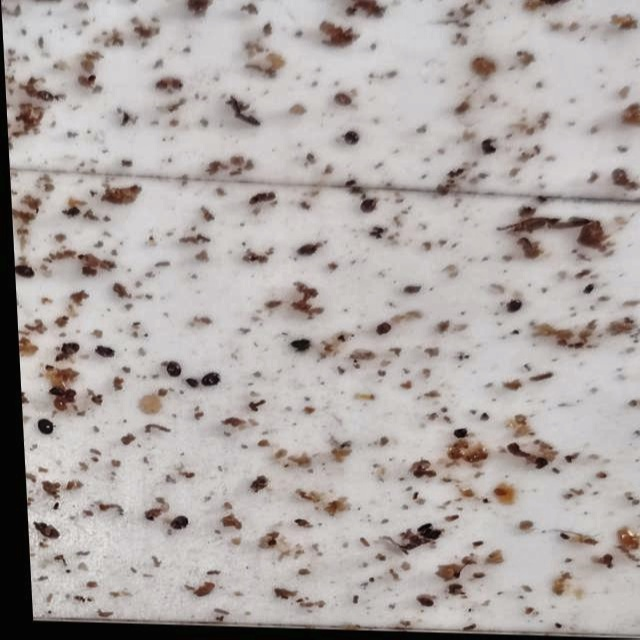varroa: (22, 526, 56, 545), (27, 420, 55, 442), (288, 245, 319, 261), (161, 518, 187, 535), (87, 348, 112, 364), (196, 373, 217, 392), (356, 200, 377, 219), (159, 364, 179, 383), (371, 323, 391, 341), (339, 133, 359, 151), (501, 298, 522, 315), (11, 269, 32, 286), (406, 598, 429, 613), (53, 345, 73, 361)
